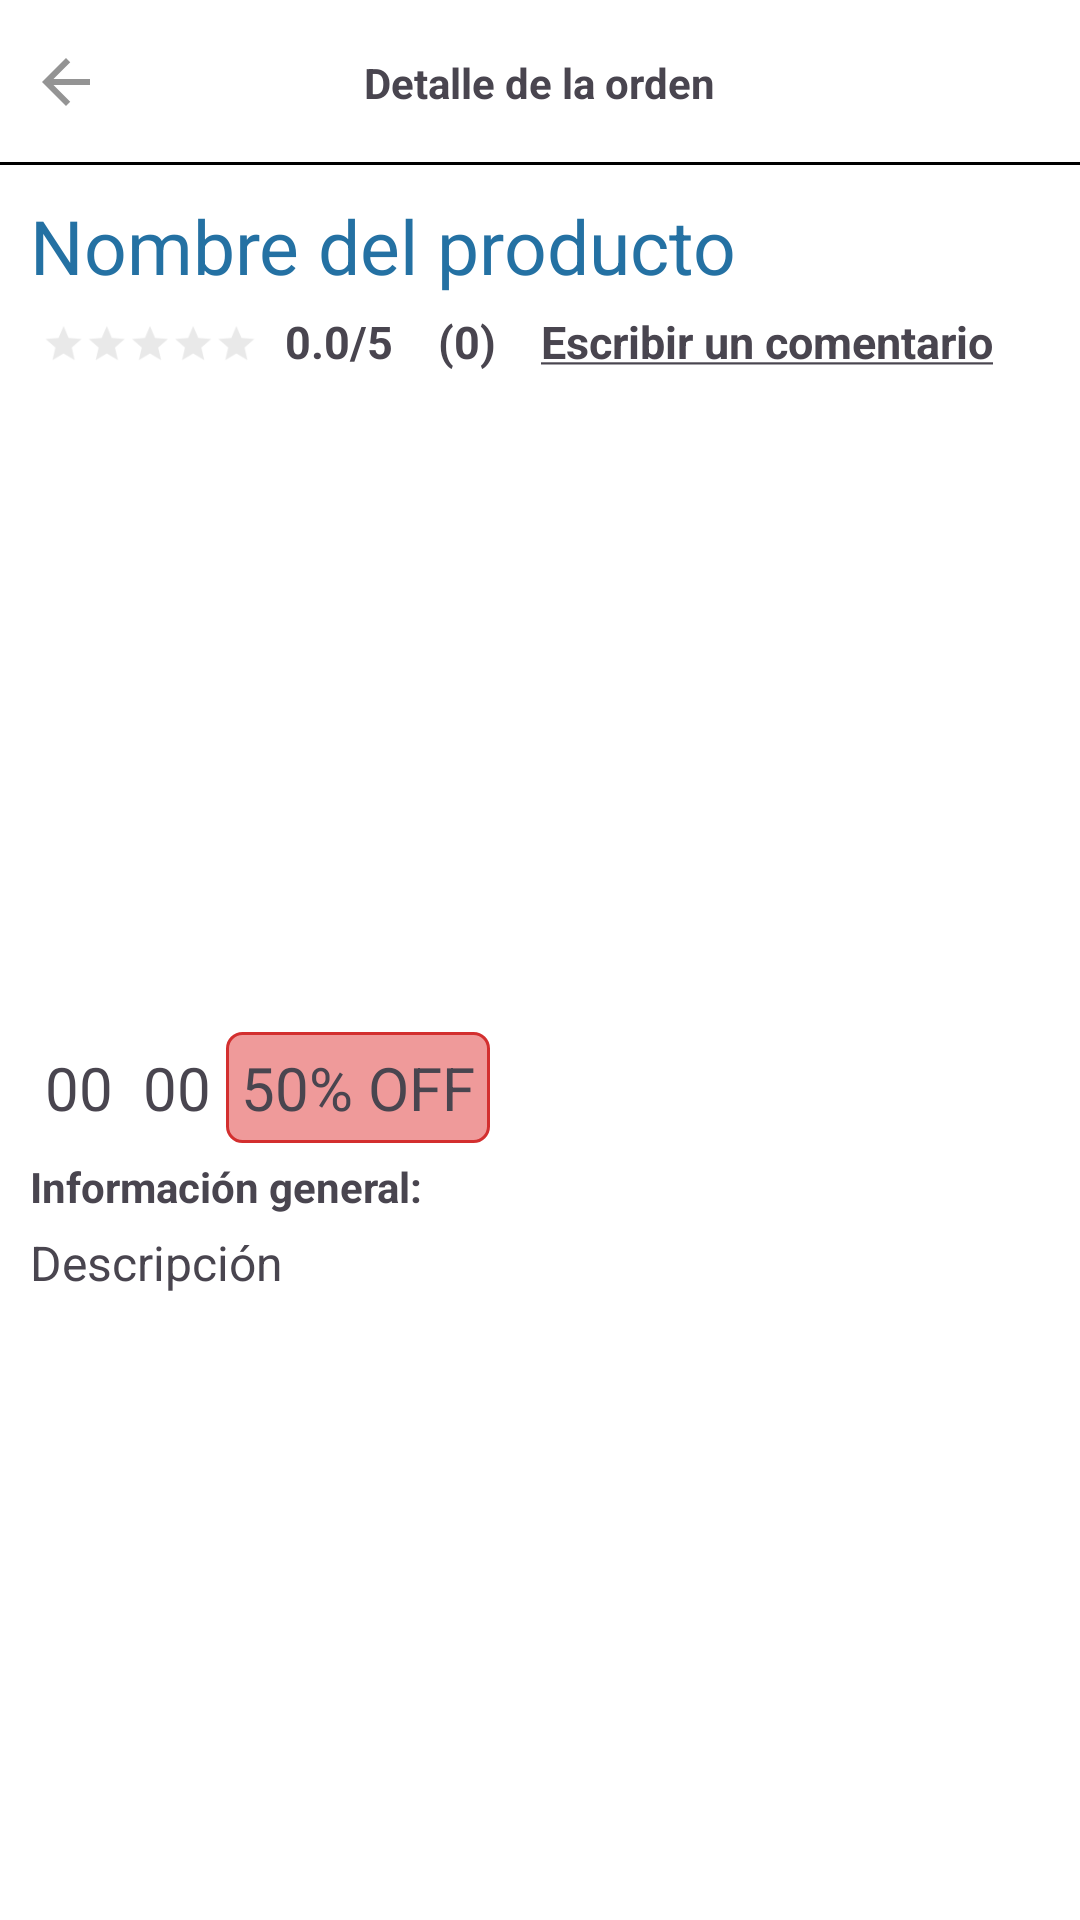

Screen size 1080px×1920px. Icon name, then its center in pixels as point (x, y):
regresar: point (66, 82)
